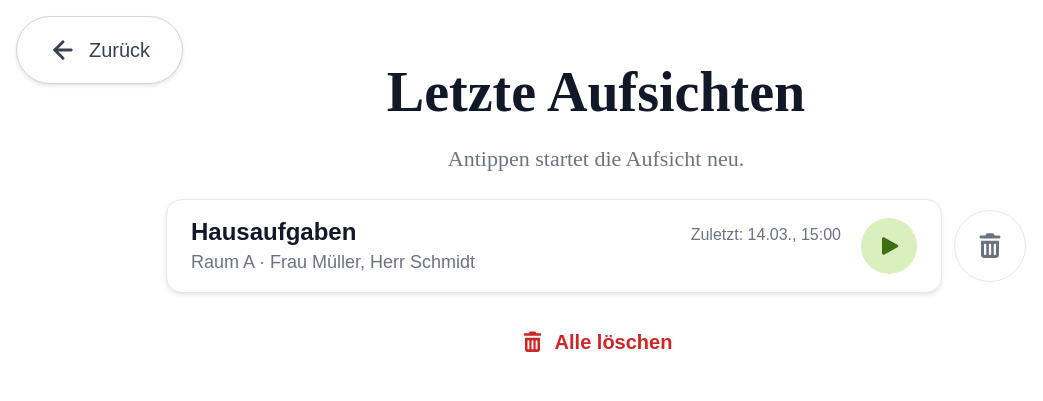
Test: SessionHistoryPage › keeps the entry when inline deletion is cancelled
The width and height of the screenshot is (1043, 401).
Step 1. Click the button named "Eintrag löschen" → (990,246), box [954,210,1026,282]
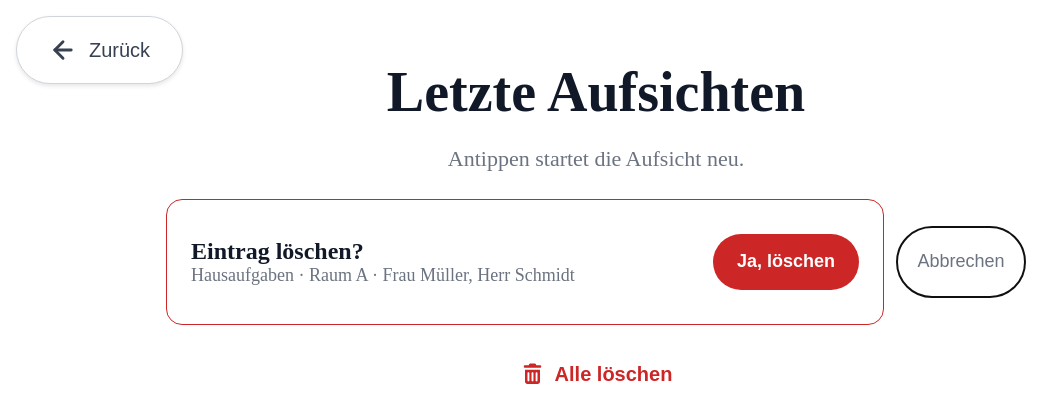
Now the text "Eintrag löschen?" is shown, box [191,238,364,264]
Step 2. Click the button "Abbrechen" → (961,262), box [896,226,1026,298]
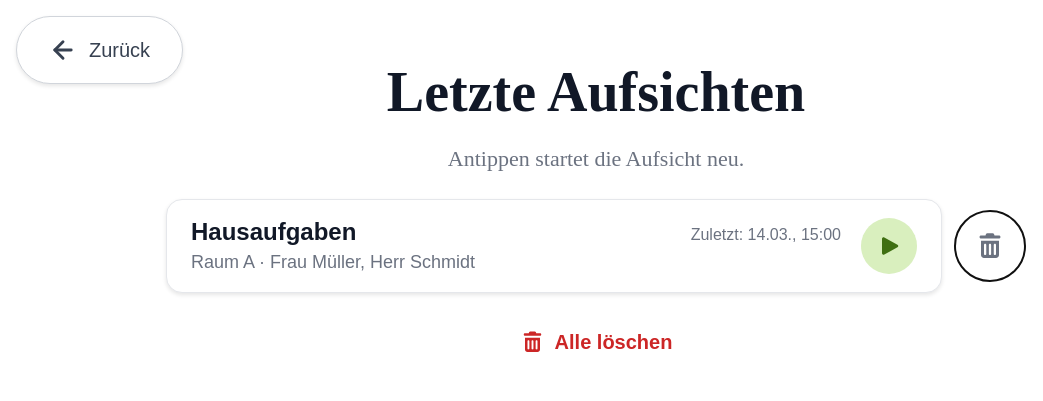
Expected: the text "Hausaufgaben" is shown, [191,218,356,246]
Now the text "Eintrag löschen?" is gone
